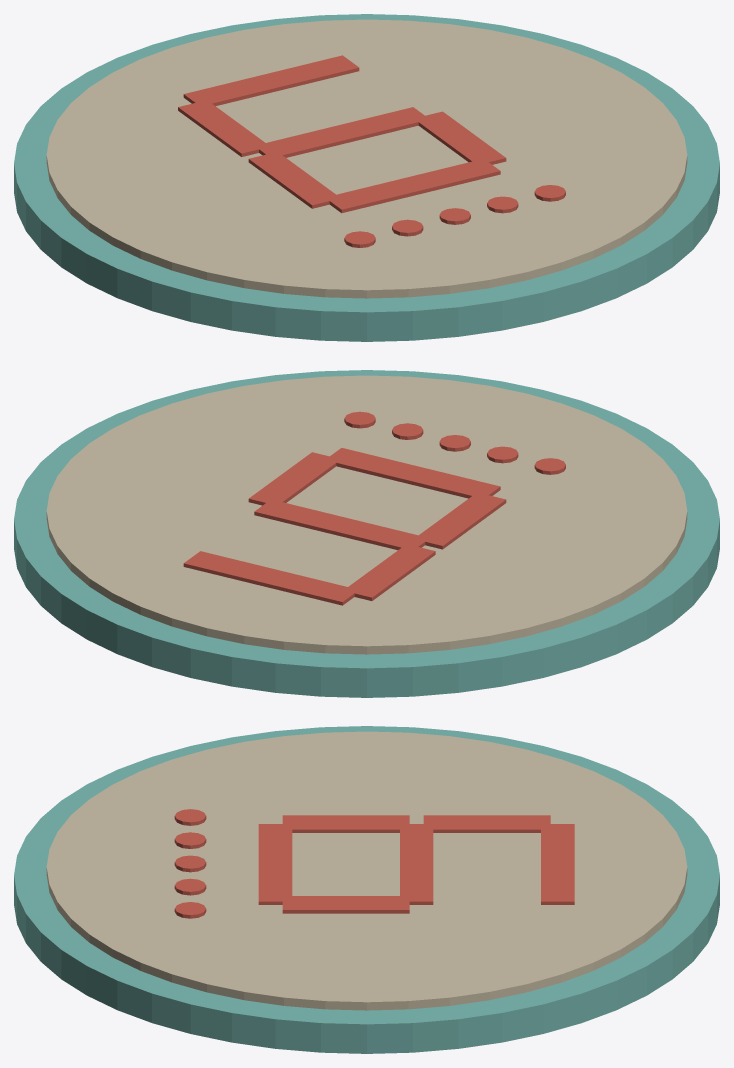
Rendered from space_number_6.glb.
3 views of the same model, one above another, from view 1: azimuth 30°, elevation 25°; view 2: azimuth 150°, elevation 25°; view 3: azimuth 270°, elevation 25° (orthographic).
Parts seen in each view (by area): view 1: FixedDetails; view 2: FixedDetails; view 3: FixedDetails.
Boxes of the visible parts, x1,y1,x2,y2 form: FixedDetails: (14,14,719,341); FixedDetails: (14,370,719,697); FixedDetails: (14,726,719,1053).
Size of the model in its own units: 0.54 by 0.036 by 0.54.
